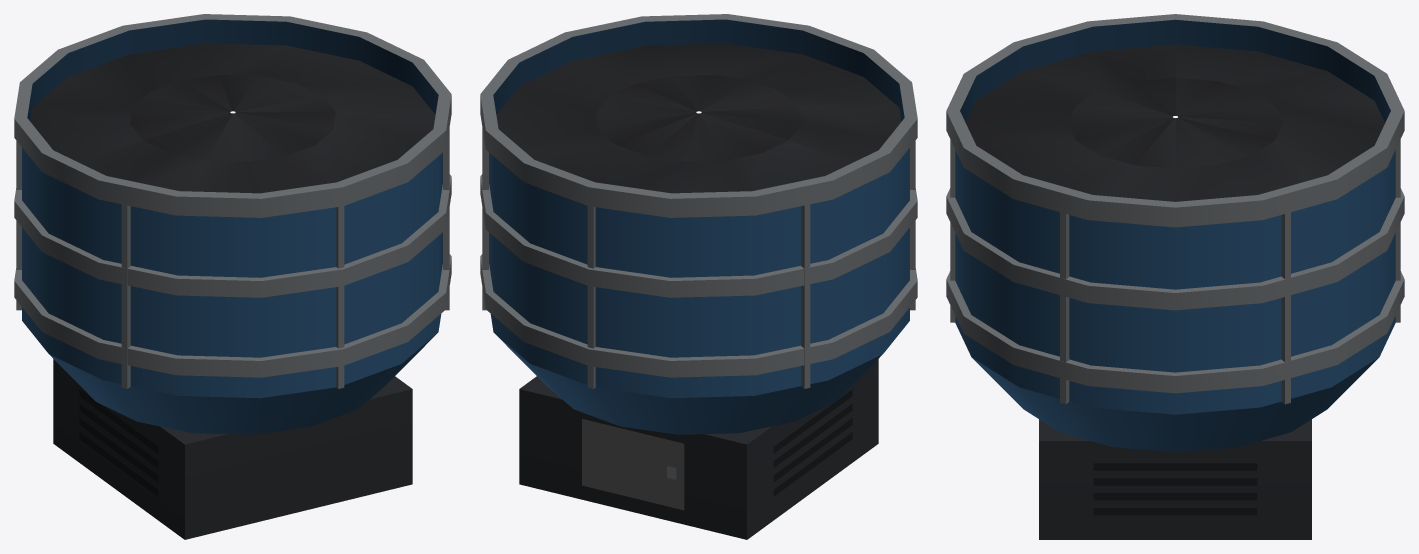
File: hopper.round.blue.glb
3 views of the same model, side by side, from view 1: azimuth 30°, elevation 25°; view 2: azimuth 150°, elevation 25°; view 3: azimuth 270°, elevation 25° (orthographic). The views are drawn at different scales.
Parts seen in each view (by area): view 1: hopper_round_blue; view 2: hopper_round_blue; view 3: hopper_round_blue.
Part boxes in pixels (x1,y1,x2,y2): hopper_round_blue: [14, 14, 451, 539]; hopper_round_blue: [480, 14, 917, 539]; hopper_round_blue: [946, 14, 1404, 539].
Size of what is drawn, in the model's own units: 3.36 by 3 by 3.36.
